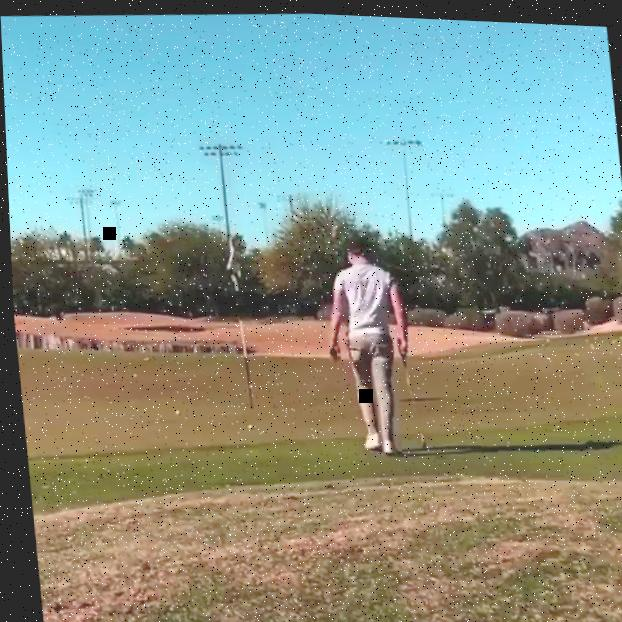ClubHead: (414, 429, 422, 444)
GolfBall: (170, 408, 176, 414), (244, 423, 249, 428)
